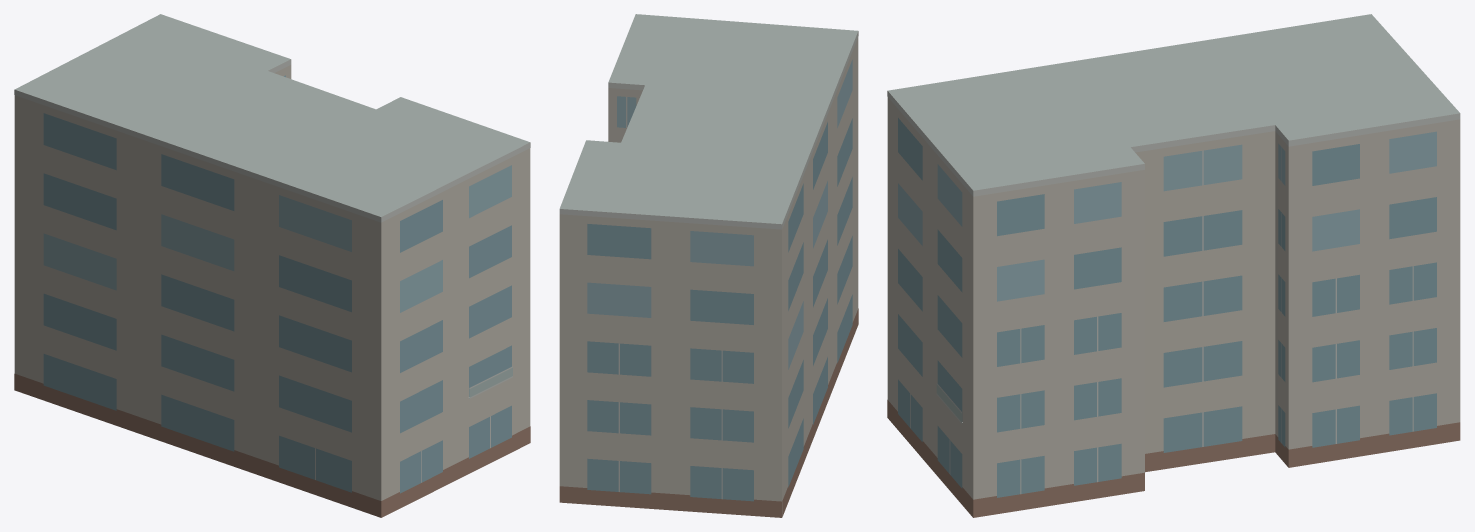
File: survey-upis-32584556.glb
3 renders of one model, left to right at view 1: azimuth 30°, elevation 25°; view 2: azimuth 150°, elevation 25°; view 3: azimuth 270°, elevation 25°, orthographic. The views are drawn at different scales.
Parts seen in each view (by area): view 1: survey-upis-32584556.tmp; view 2: survey-upis-32584556.tmp; view 3: survey-upis-32584556.tmp.
Part boxes in pixels (x1,y1,x2,y2): survey-upis-32584556.tmp: (14,14,530,517); survey-upis-32584556.tmp: (559,14,858,517); survey-upis-32584556.tmp: (887,14,1460,517).
Bounding box in the file's own units: 15.42 × 13.3 × 21.12.
